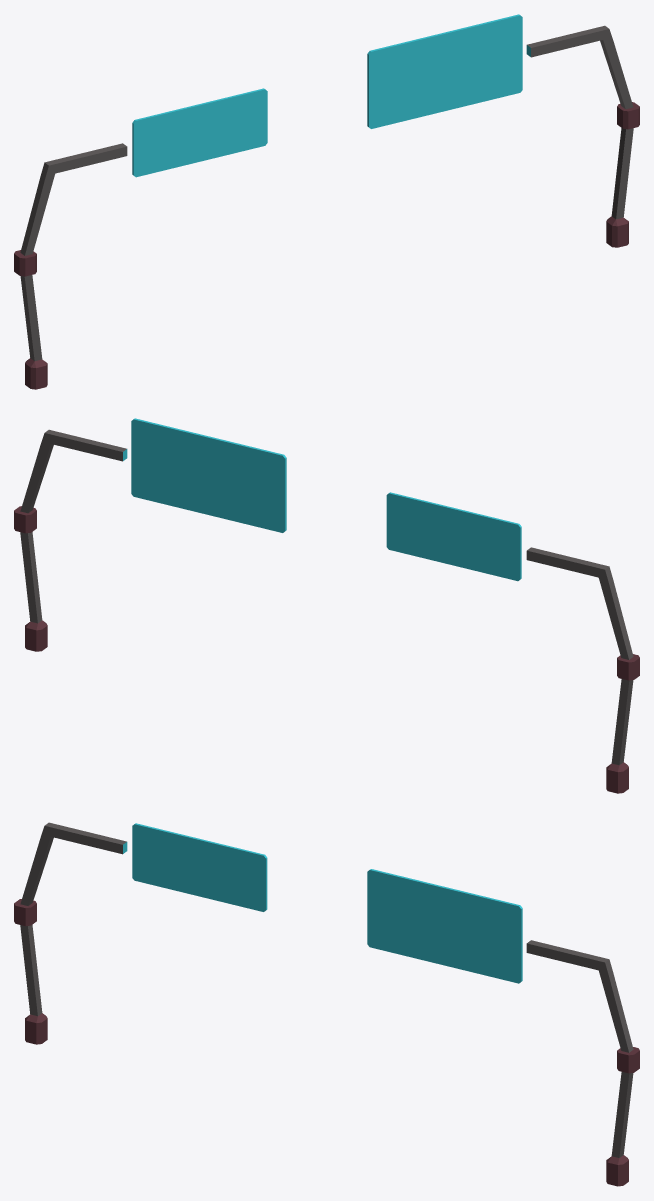
The model's file is scifi-mainroad-sign.fbx.
3 views of the same model, one above another, from view 1: azimuth 30°, elevation 25°; view 2: azimuth 150°, elevation 25°; view 3: azimuth 330°, elevation 25° (orthographic).
Parts seen in each view (by area): view 1: scifi-mainroad-sign; view 2: scifi-mainroad-sign; view 3: scifi-mainroad-sign.
Boxes of the visible parts, x1,y1,x2,y2 form: scifi-mainroad-sign: [14, 14, 639, 389]; scifi-mainroad-sign: [14, 418, 639, 793]; scifi-mainroad-sign: [14, 822, 639, 1186].
Size of the model in its own units: 17.07 by 6.63 by 0.4698.
